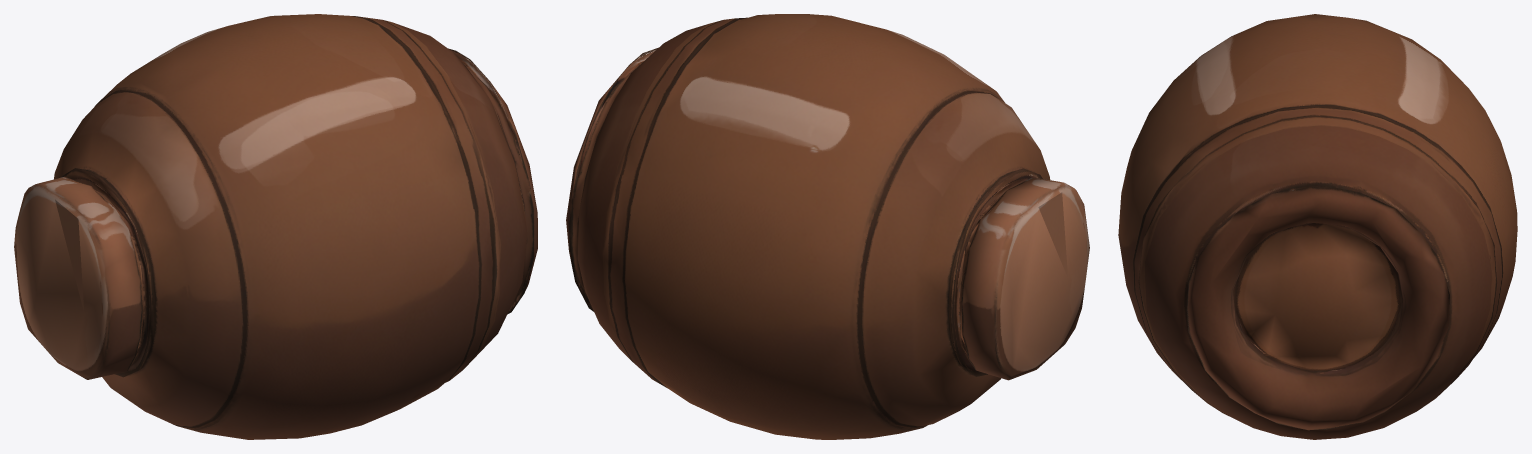
The model's file is rolling_jar.glb.
The picture shows the model from 3 angles, left to right: view 1: azimuth 30°, elevation 25°; view 2: azimuth 150°, elevation 25°; view 3: azimuth 270°, elevation 25°; orthographic projection. The views are drawn at different scales.
Visible parts, largest first — view 1: low; view 2: low; view 3: low.
Boxes of the visible parts, x1,y1,x2,y2 form: low: (14,14,537,439); low: (566,14,1089,439); low: (1118,14,1517,439).
Size of the model in its own units: 0.9998 by 0.8763 by 0.8702.
Materials: 1 (1 with a texture image).
